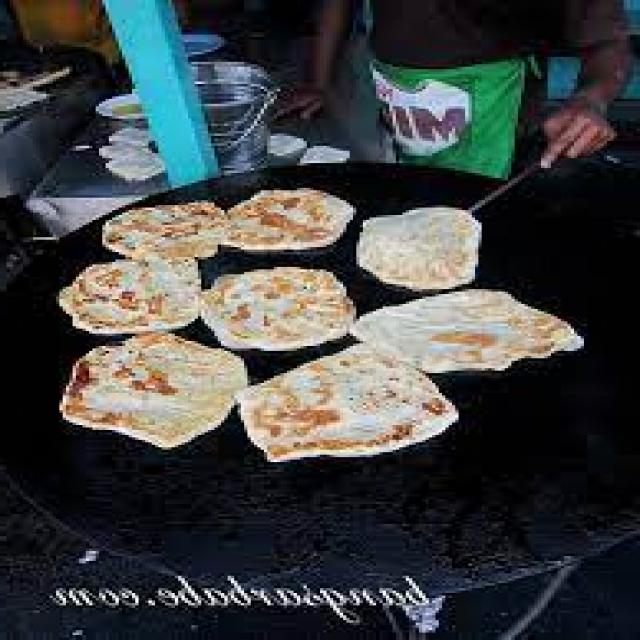Paratha: (243, 334, 435, 491), (63, 325, 243, 430), (362, 282, 546, 351), (211, 278, 336, 379), (63, 251, 192, 348), (372, 192, 486, 284), (231, 183, 336, 258)
